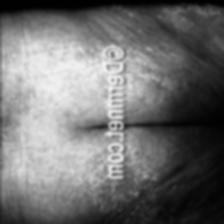Non-Cancerous Skin Condition: (24, 50, 92, 116), (135, 190, 224, 224), (106, 9, 224, 31), (53, 155, 97, 203)
